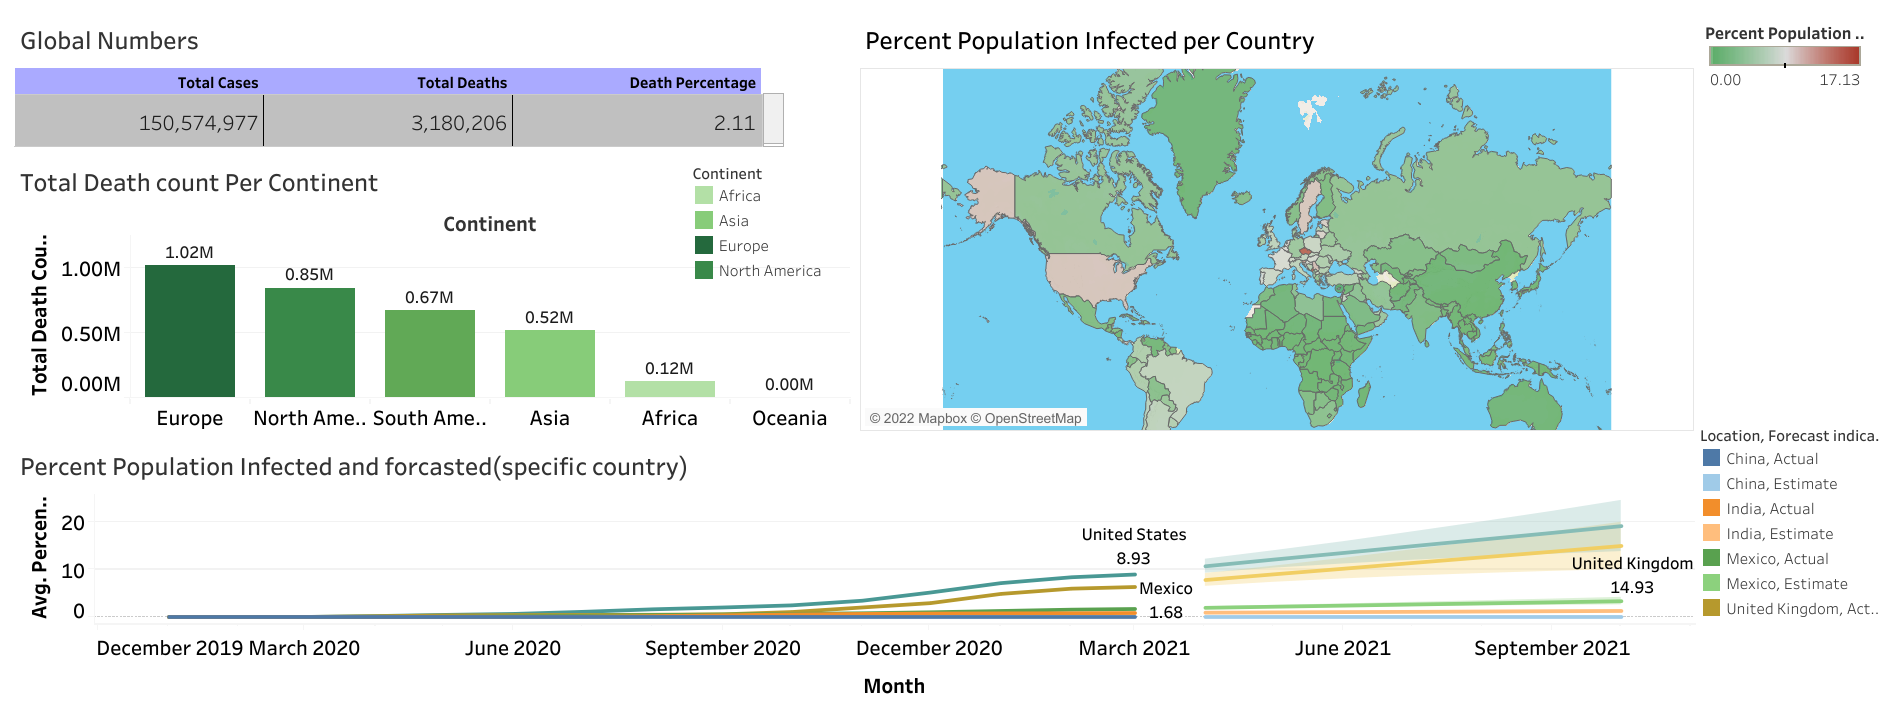

The page's visual inventory and layout, read from the dashboard file:
{"tool":"tableau","page":{"name":"COVID VISUALIZATION","canvas":[1000,1000],"units":"permille","ordinal":0},"visuals":[{"type":"worksheet","title":"Global Numbers","mark":"Automatic","box":[4.9,9.4,452.9,198.6]},{"type":"worksheet","title":"Percent Population Infected","mark":"Automatic","box":[457.8,9.4,453,594.6]},{"type":"legend","title":"Percent Population Infected","param":"[federated.1uu0mpv1o2g8mh101vn3400myoc9].[sum:PercentPopulationInfected:qk]","box":[910.8,9.4,84.3,88.1]},{"type":"worksheet","title":"Total Death count Per Continent","mark":"Automatic","rows":["TotalDeathCount"],"cols":["location"],"box":[4.9,208,452.9,396]},{"type":"legend","title":"Total Death count Per Continent","param":"[federated.10c3nfc18003rr10tsxel1x6vwgu].[none:location:nk]","box":[367.2,219.7,80,173.9]},{"type":"legend","title":"Percent Population Infected and forcasted(specific country)","param":"[federated.0ajzat50abqlyp0zky4ed1gbiwb8].[none:Location:nk]\n[federated.0ajzat50a","box":[902.8,582.8,97.8,272.6]},{"type":"worksheet","title":"Percent Population Infected and forcasted(specific country)","mark":"Automatic","rows":["PercentPopulationInfected"],"cols":["date"],"box":[4.9,604,905.9,386.6]}]}

Visuals, with their boxes on the dashboard's canvas, which has no fixed pixel size, in thousandths of its width and height (x1, y1, x2, y2). These are canvas units, not pixel positions in the 1880x721 screenshot, which may show the page scaled, cropped or inside an application window:
"Global Numbers" worksheet: [5, 9, 458, 208]
"Percent Population Infected" worksheet: [458, 9, 911, 604]
"Percent Population Infected" legend: [911, 9, 995, 98]
"Total Death count Per Continent" worksheet: [5, 208, 458, 604]
"Total Death count Per Continent" legend: [367, 220, 447, 394]
"Percent Population Infected and forcasted(specific country)" legend: [903, 583, 1001, 855]
"Percent Population Infected and forcasted(specific country)" worksheet: [5, 604, 911, 991]
